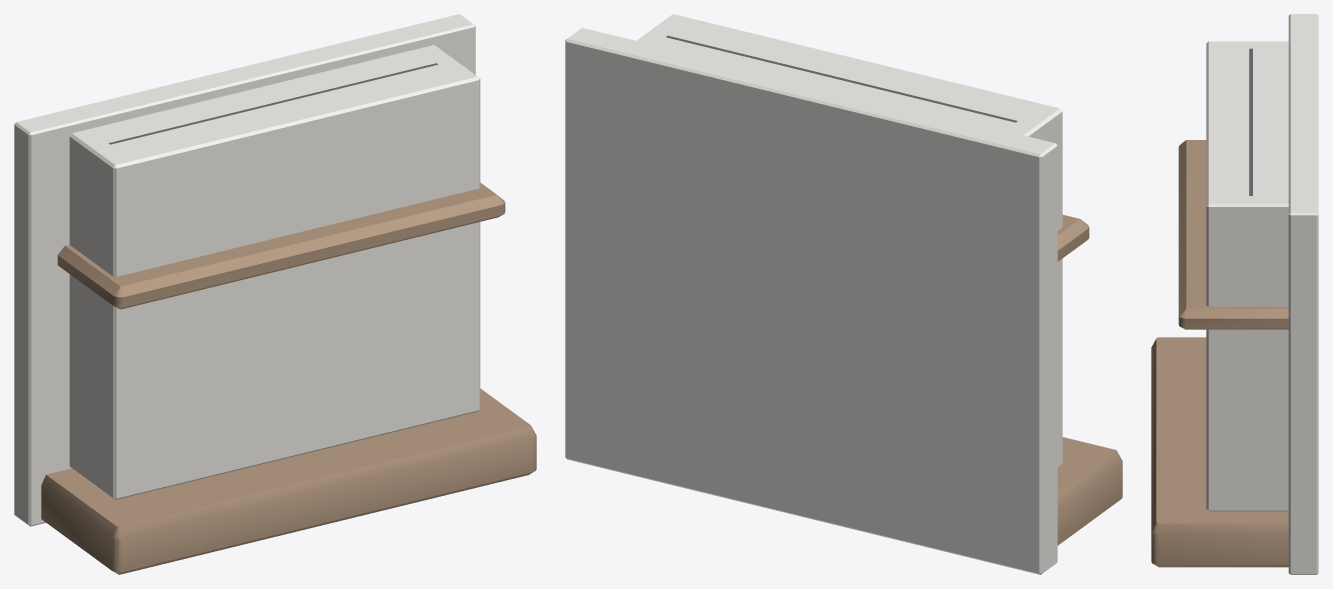
Rendered from hotel-and-resort-operations-lobby-fireplace-feature-9700a482__25872.glb.
The picture shows the model from 3 angles, left to right: view 1: azimuth 30°, elevation 25°; view 2: azimuth 150°, elevation 25°; view 3: azimuth 270°, elevation 25°; orthographic projection. The views are drawn at different scales.
Parts seen in each view (by area): view 1: lobby-fireplace-feature; view 2: lobby-fireplace-feature; view 3: lobby-fireplace-feature.
Boxes of the visible parts, x1,y1,x2,y2 form: lobby-fireplace-feature: (14,14,536,574); lobby-fireplace-feature: (565,14,1122,574); lobby-fireplace-feature: (1151,14,1318,574).
Size of the model in its own units: 1.9 by 1.6 by 0.6699.
